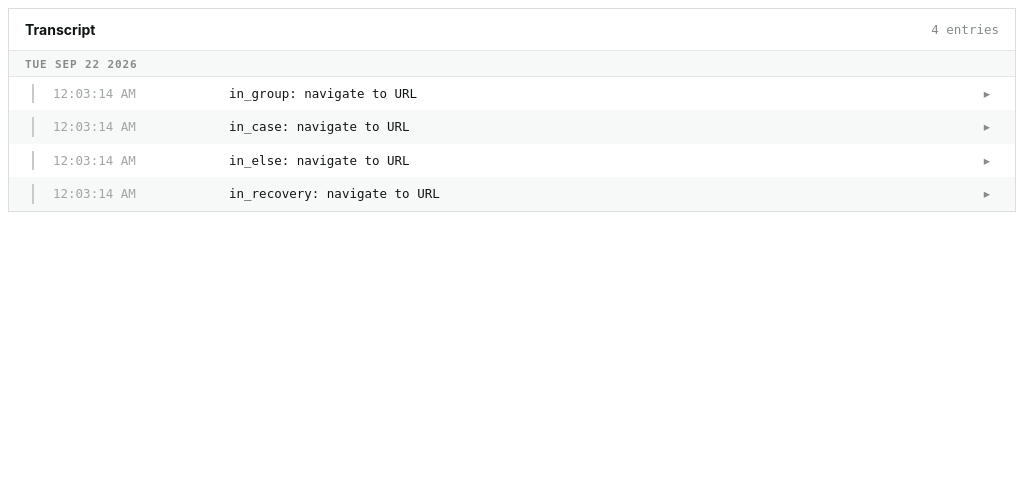
Test: TranscriptPanel › finds a Step nested in a group, an if branch, and a recovery
The width and height of the screenshot is (1024, 489).
Click the button "▸" in the row of "in_group: navigate to URL" at (987,94), box [975,82,999,106]
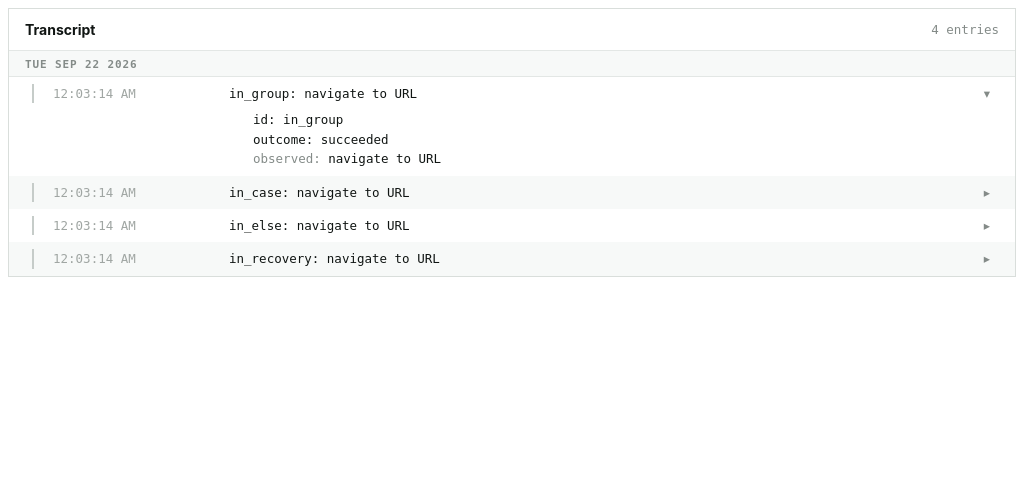
Click the button "▸" in the row of "in_case: navigate to URL" at (987,193), box [975,181,999,205]
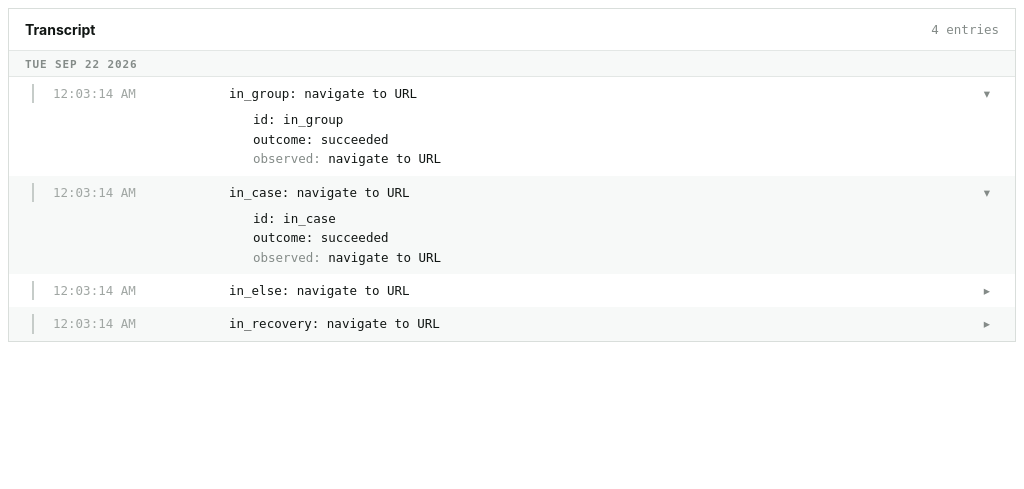
Click the button "▸" in the row of "in_else: navigate to URL" at (987,291), box [975,279,999,303]
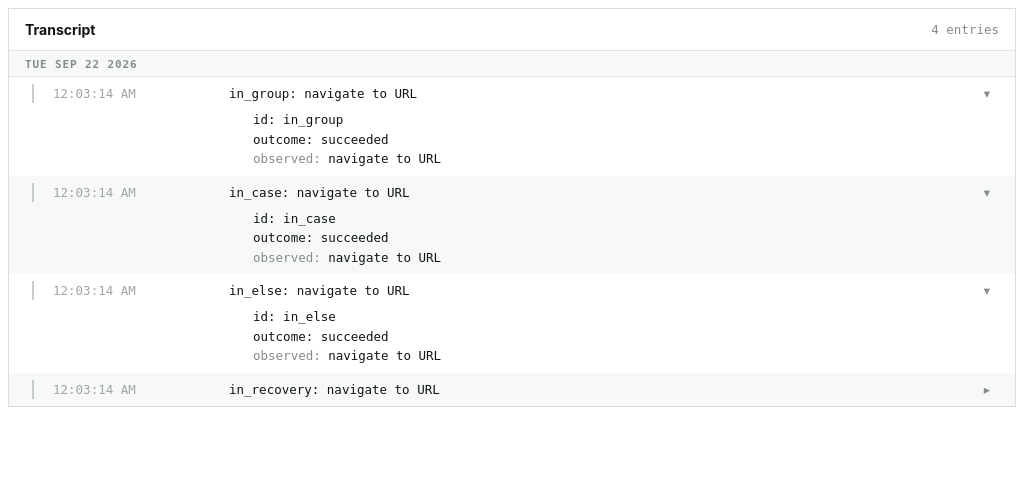
Click the button "▸" at (987,390), box [975,378,999,402]
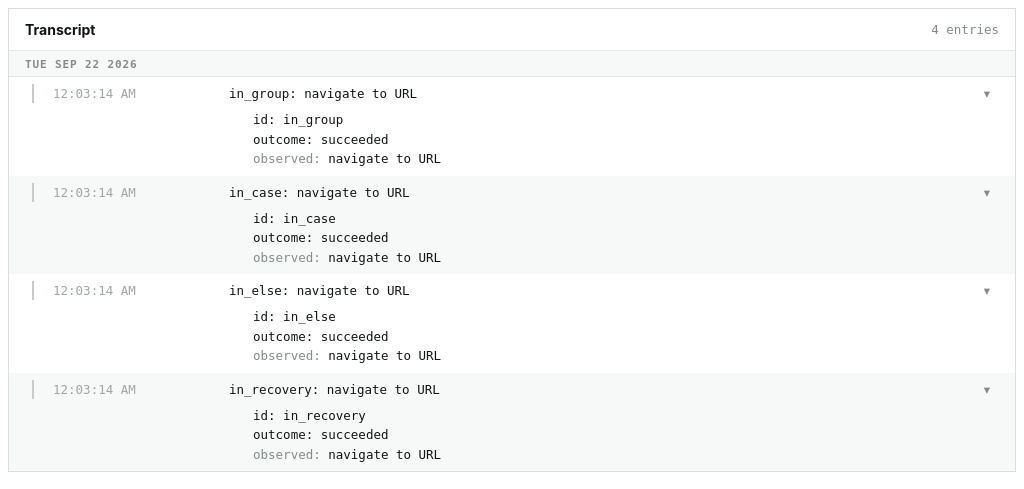
expect the text "id: in_group" is shown 4 times: met, box [253,112,343,127]; [253,211,336,226]; [253,309,336,324]; [253,408,366,423]
